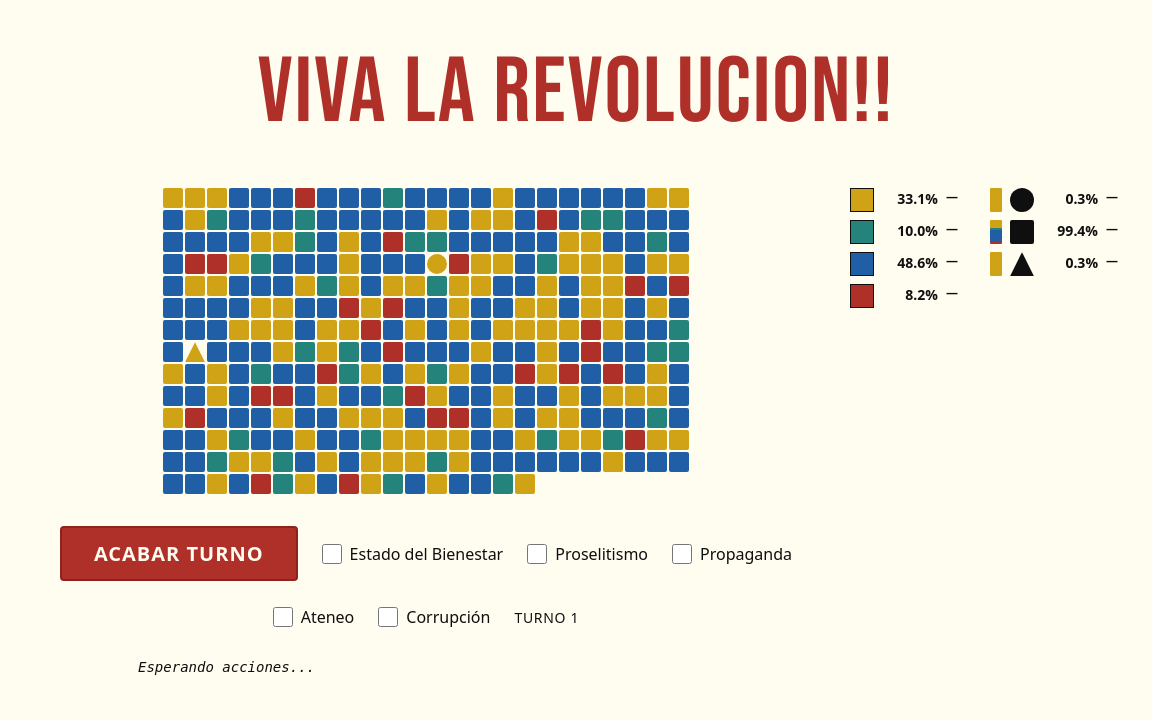
Test case: HomePage › advances turn when end turn button is clicked
This screenshot has width=1152, height=720.
Expected: the text "Turno 1" is shown, [514,607,579,628]
Step 1. Click the button "Acabar turno" → coordinates (179, 554), box [60,526,298,581]
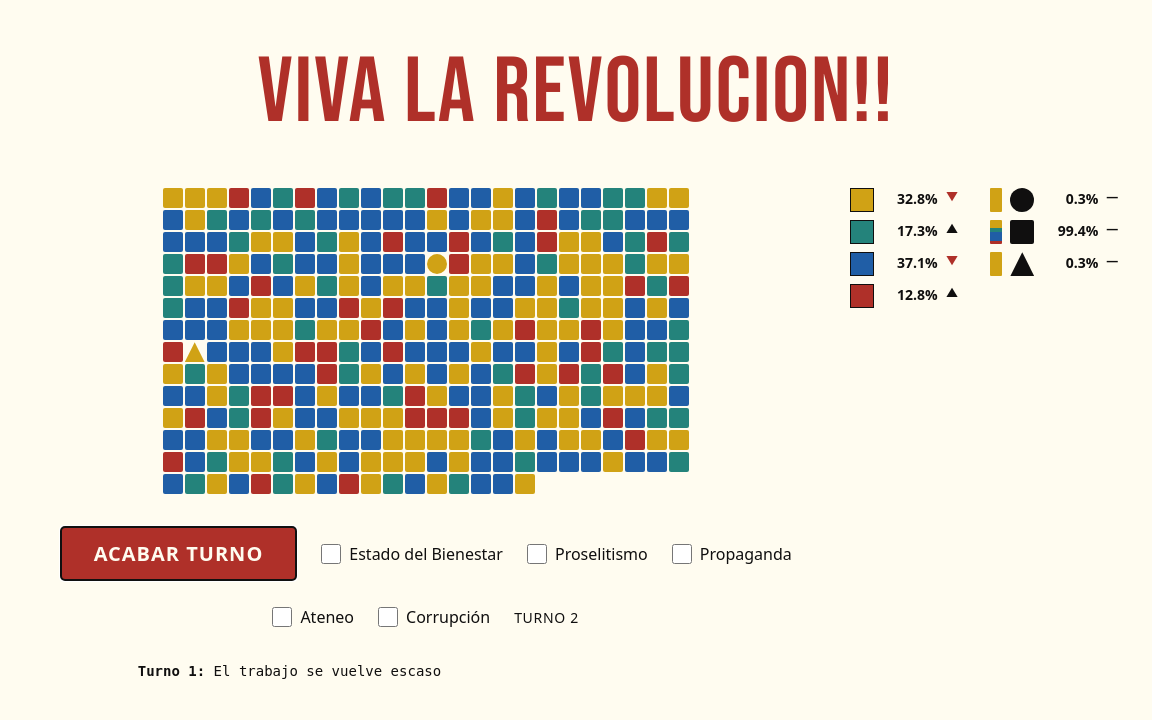
Expected: the text "Turno 2" is shown, [514,607,579,628]
Step 2. Click the button "Acabar turno" → coordinates (178, 554), box [60,526,297,581]
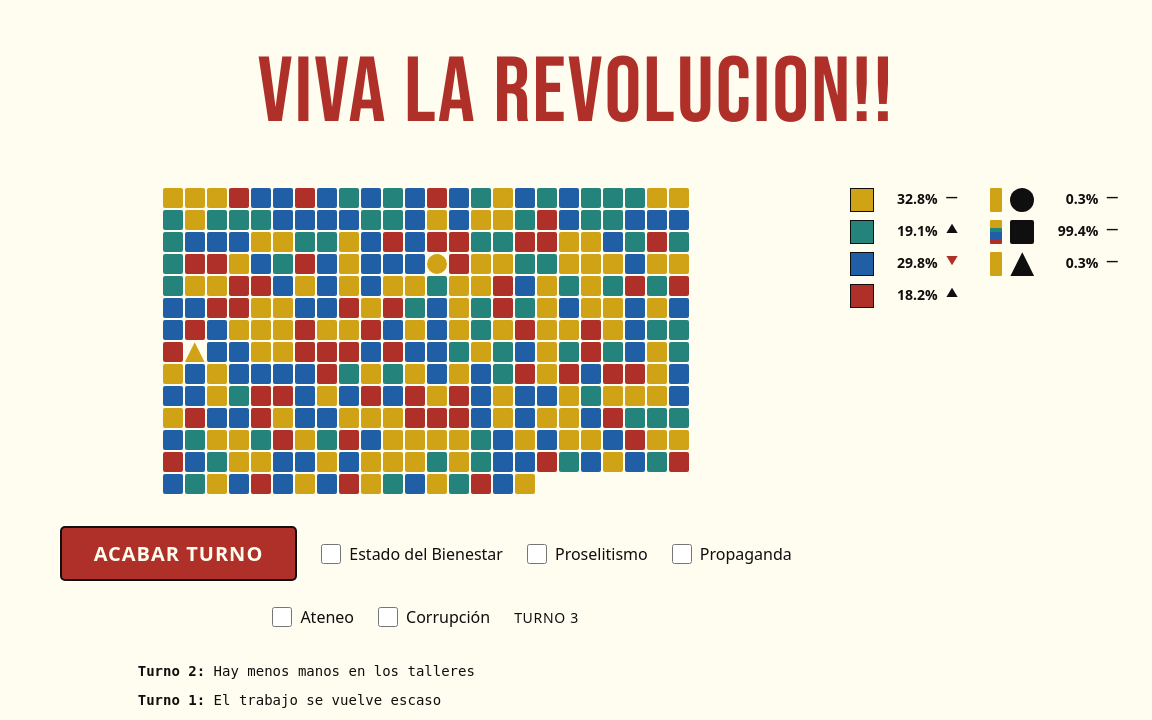
Expected: the text "Turno 3" is shown, [514,607,579,628]
